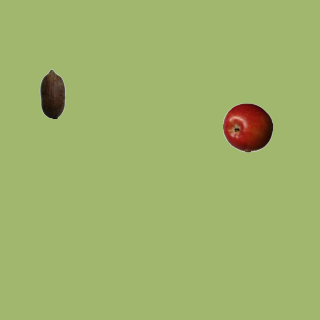Apple Braeburn: (222, 102, 272, 152)
Nut Pecan: (27, 68, 77, 118)
